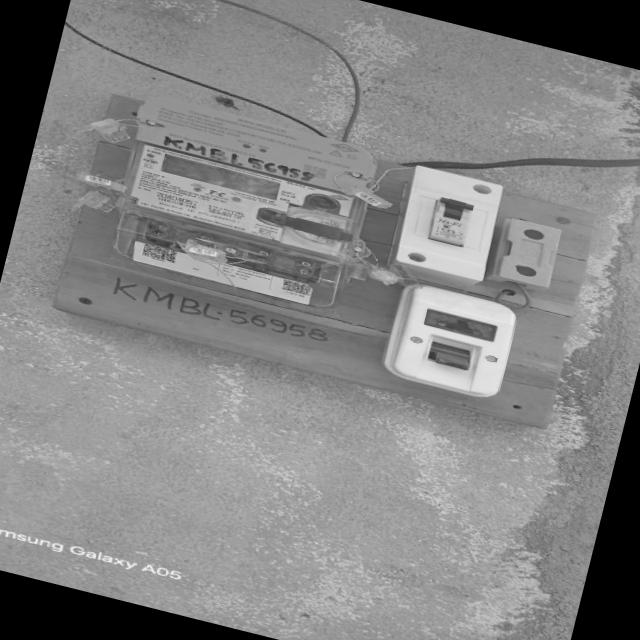meter: (120, 92, 402, 266)
